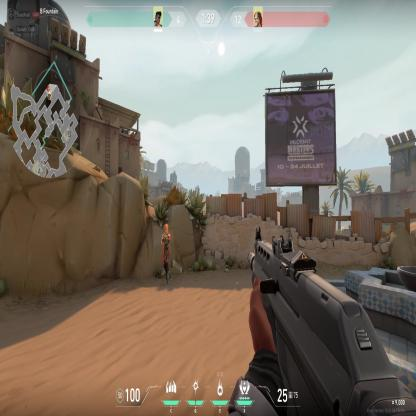enemy: (160, 221, 172, 284)
